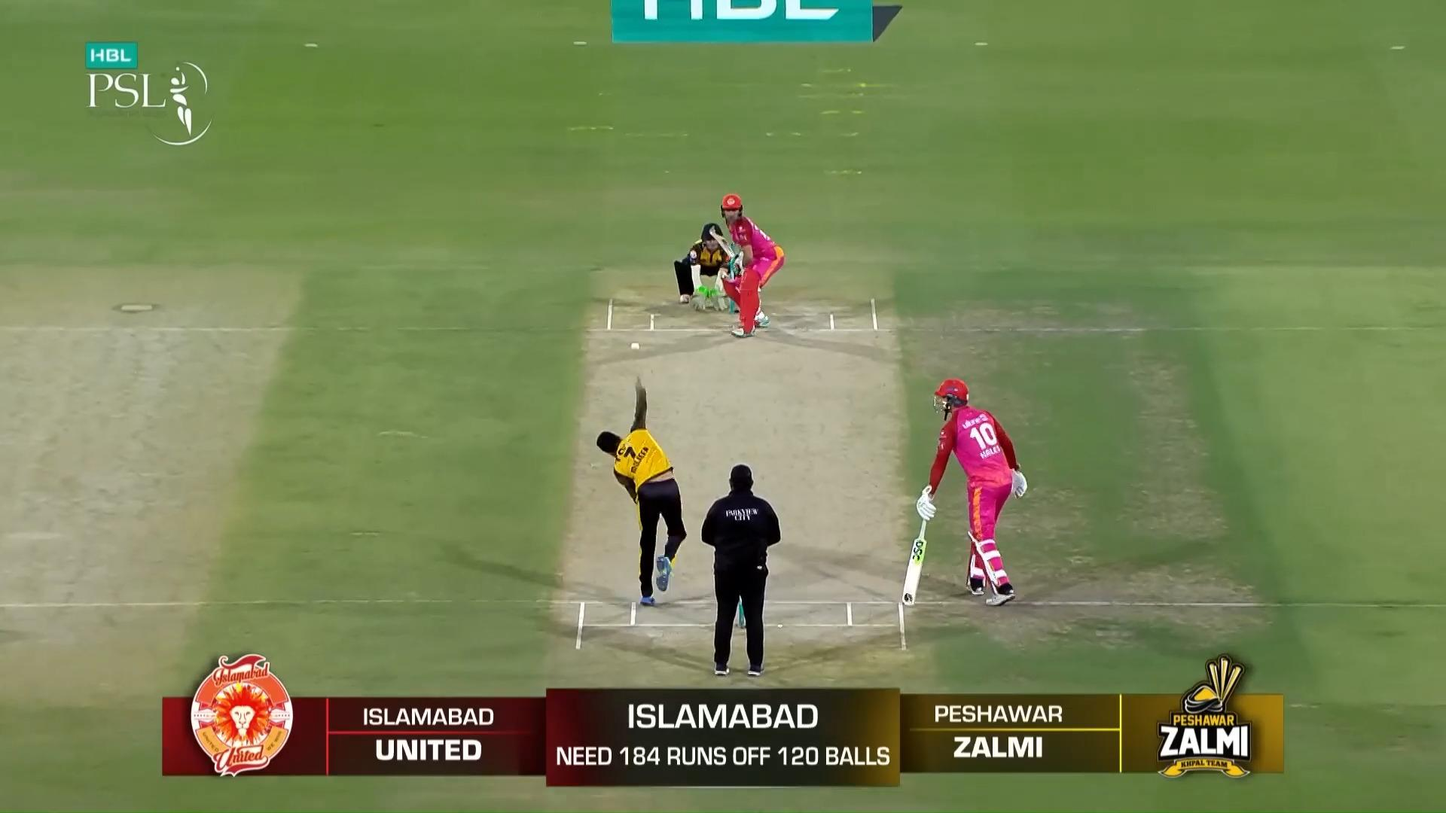batsman: (710, 194, 785, 339)
